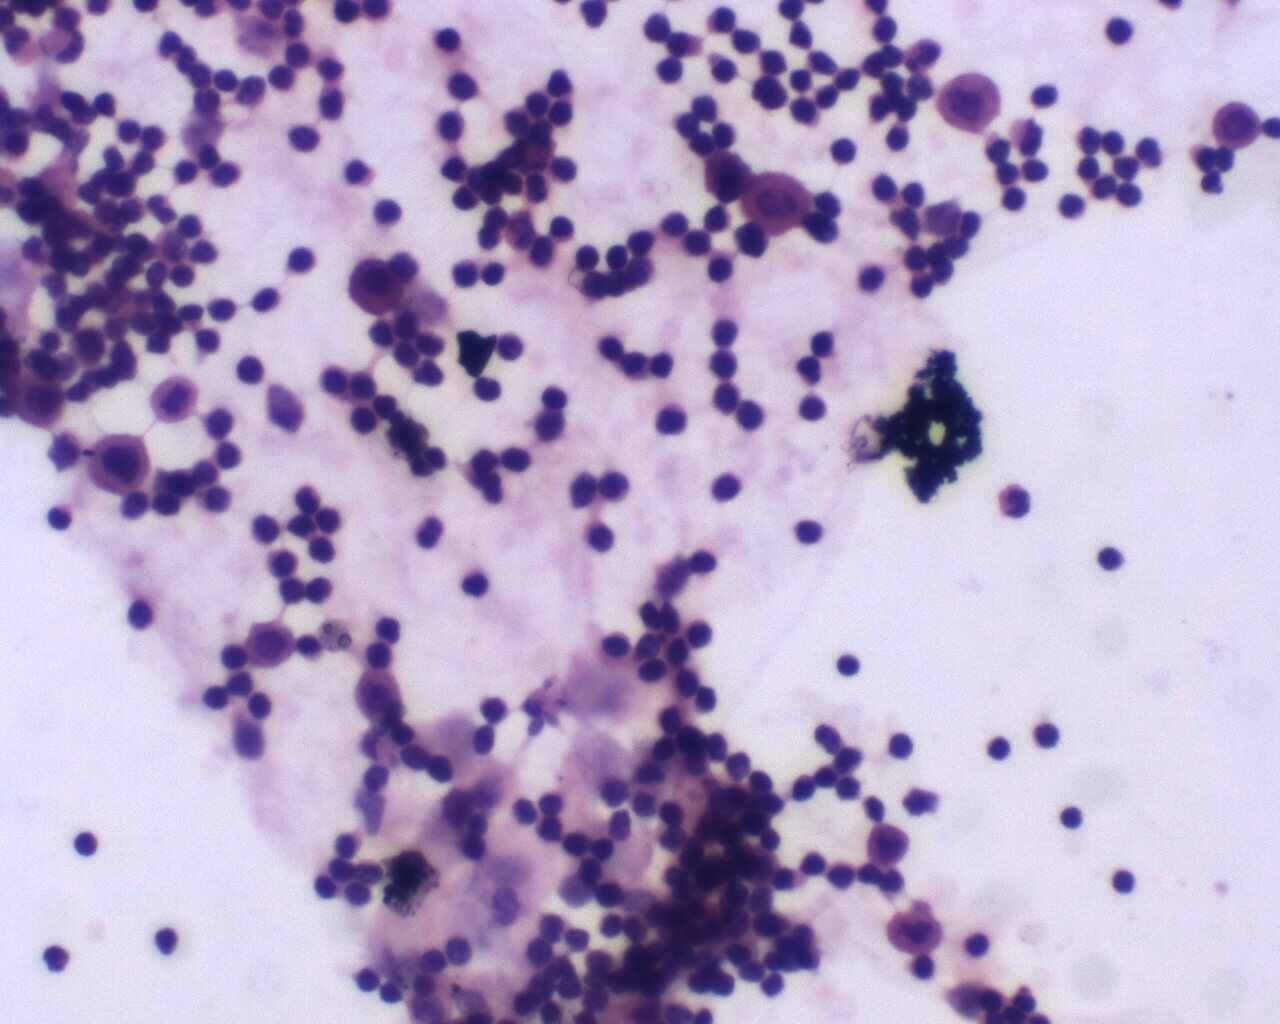ab: (746, 165, 812, 239), (87, 429, 161, 495), (937, 69, 1006, 134), (144, 376, 207, 426), (701, 149, 758, 205), (1210, 97, 1263, 154), (886, 906, 945, 956), (861, 822, 913, 870), (571, 241, 608, 275), (704, 251, 739, 286), (430, 25, 469, 55)
lymph: (1100, 10, 1138, 56), (243, 511, 287, 550), (705, 469, 749, 507), (579, 519, 619, 558), (652, 400, 688, 438), (233, 353, 269, 389), (69, 827, 103, 862), (883, 727, 917, 763), (206, 293, 241, 325), (798, 390, 829, 427), (124, 595, 154, 633), (789, 513, 822, 546), (1093, 543, 1126, 577), (458, 568, 491, 601), (982, 734, 1013, 768), (286, 246, 318, 278), (1053, 801, 1085, 833), (1109, 864, 1138, 898), (835, 651, 862, 681)
meso: (342, 255, 409, 312), (243, 619, 295, 668)
neutro: (993, 484, 1039, 520)
